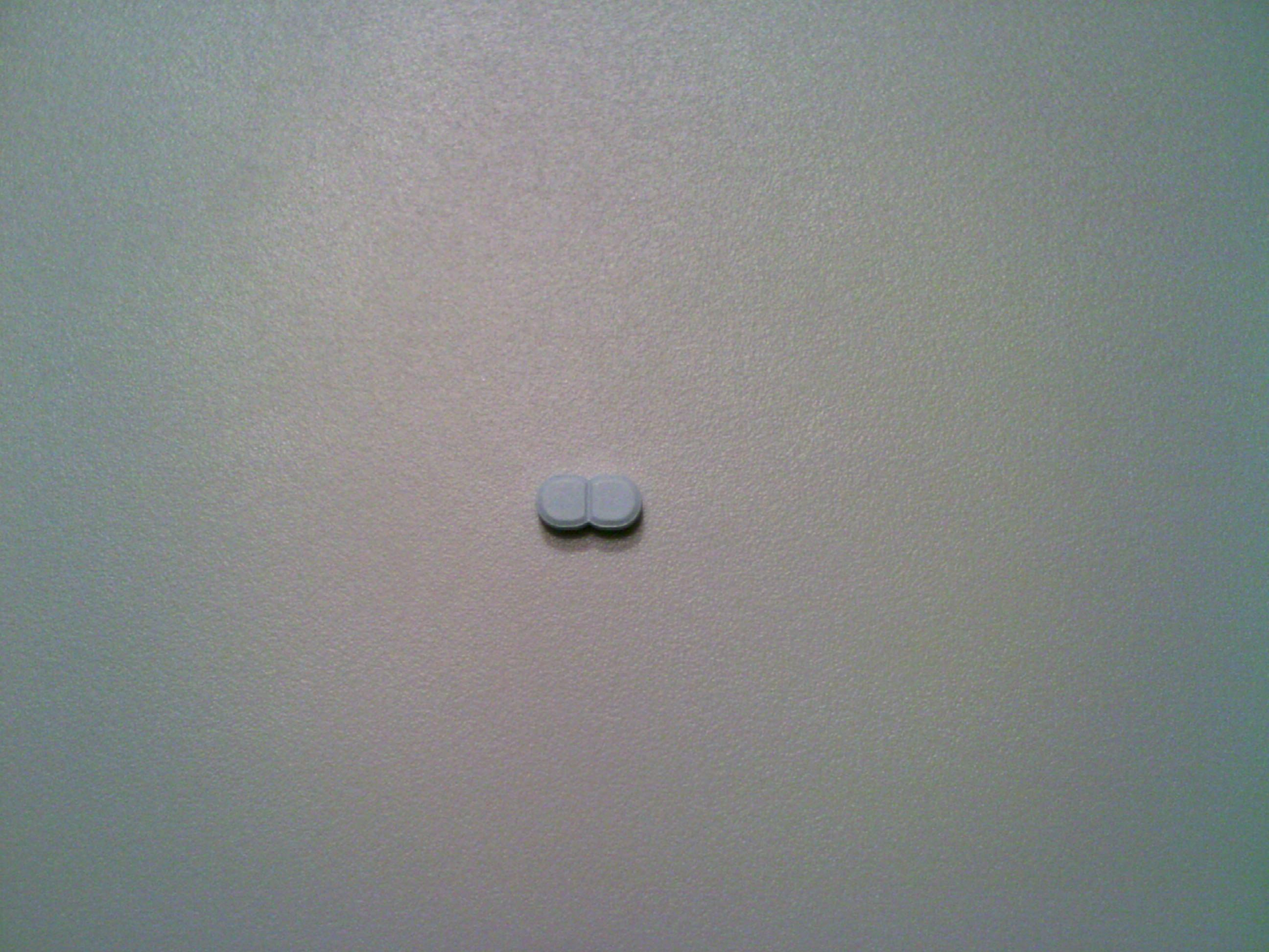Pill: (522, 462, 661, 549)
